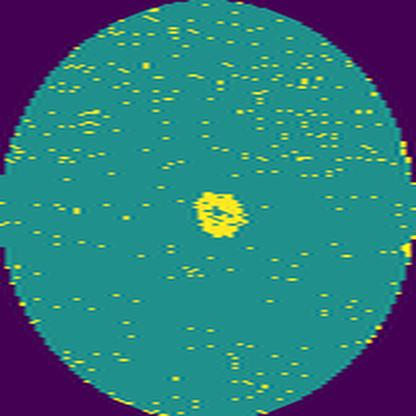Center: (196, 190, 250, 240)
